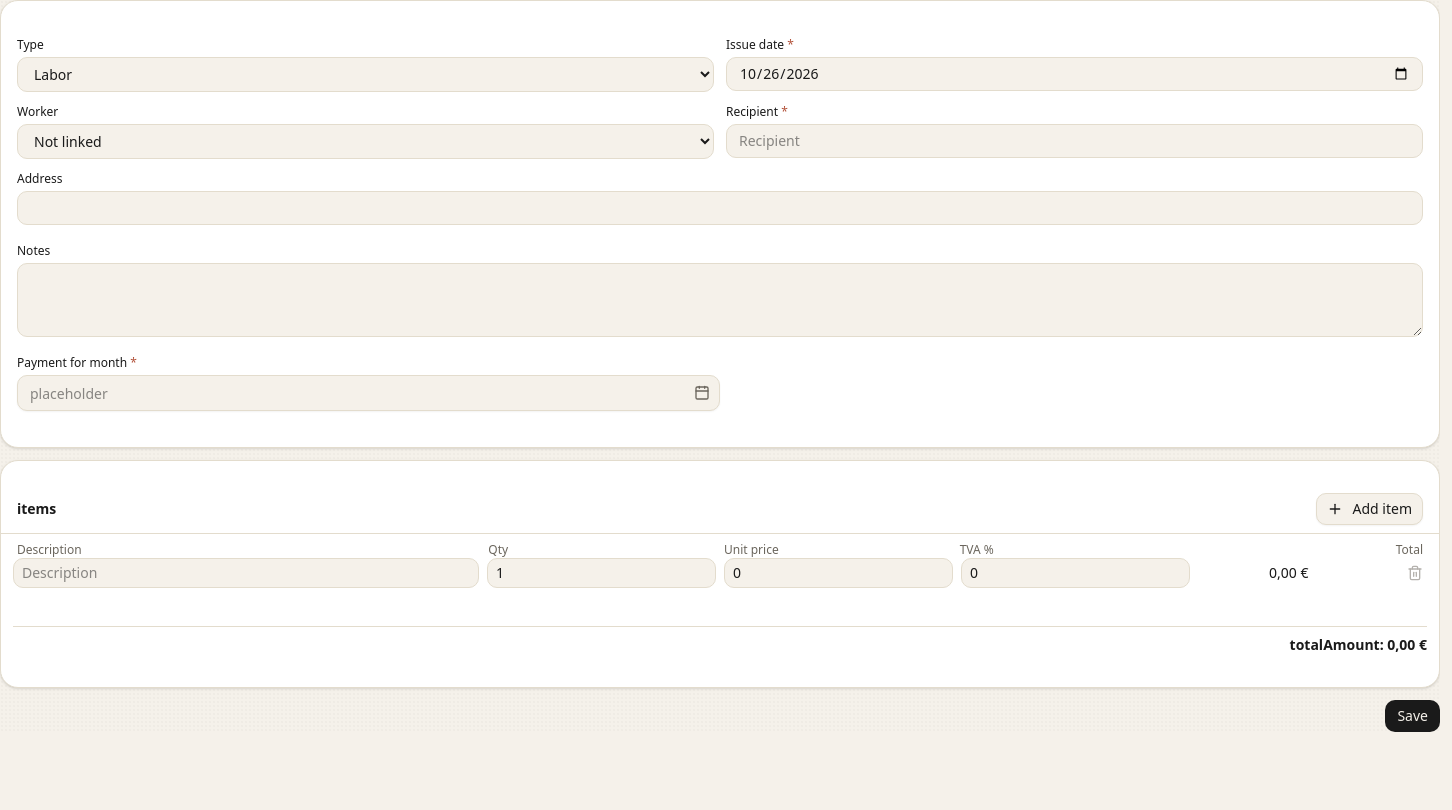
Test case: InvoiceForm — unlinked labor recipient fallback (create mode) › re-shows the required recipient input after picking then clearing back to 'Not linked'
Select "Amy Active" in the dropdown with test id "labor-worker-select": (366,142) x1=17 y1=124 x2=714 y2=159
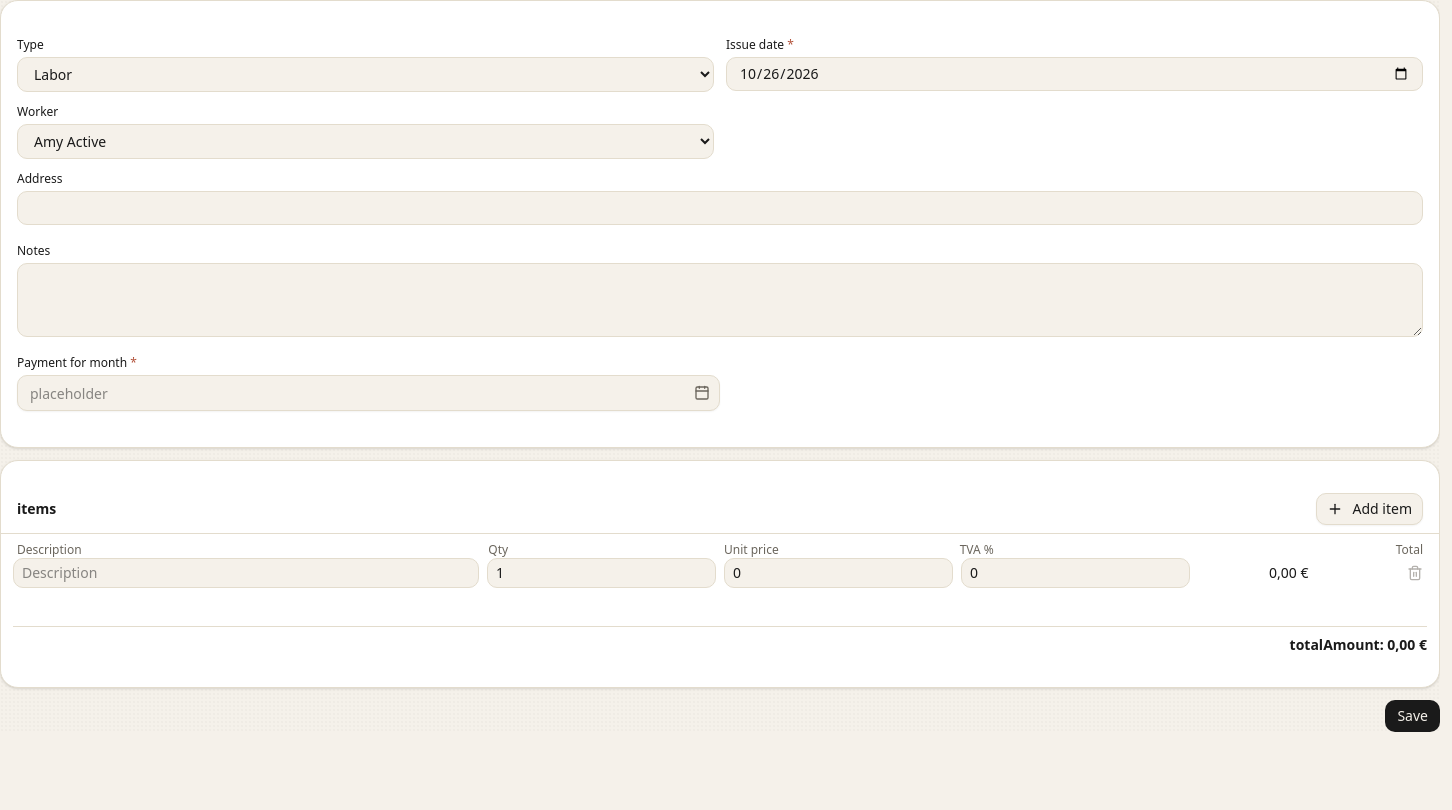
Now the field with test id "unlinked-labor-recipient-input" is gone
Select "Not linked" in the dropdown with test id "labor-worker-select": (366,142) x1=17 y1=124 x2=714 y2=159
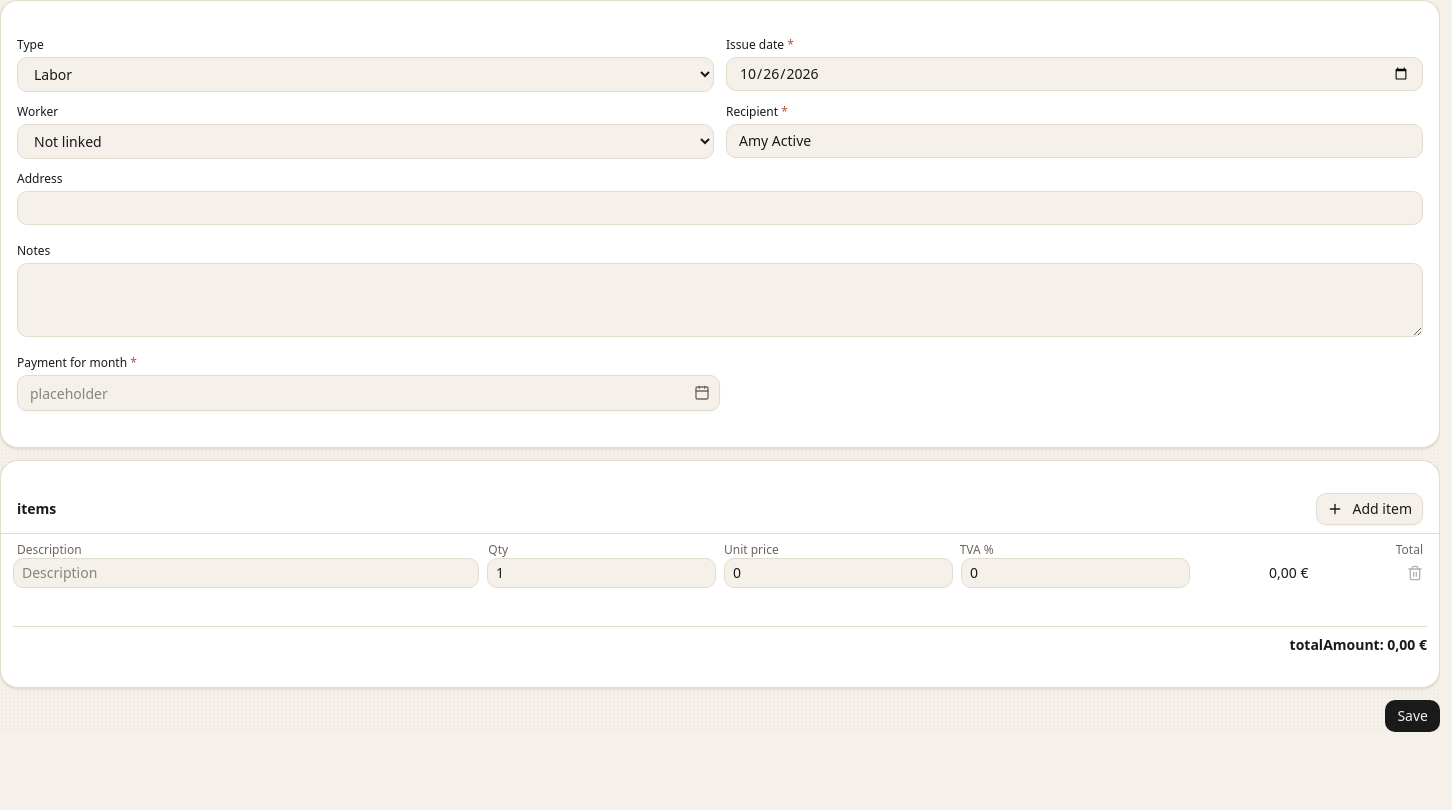
Now the field with test id "unlinked-labor-recipient-input" is shown, box x1=726 y1=124 x2=1423 y2=158
